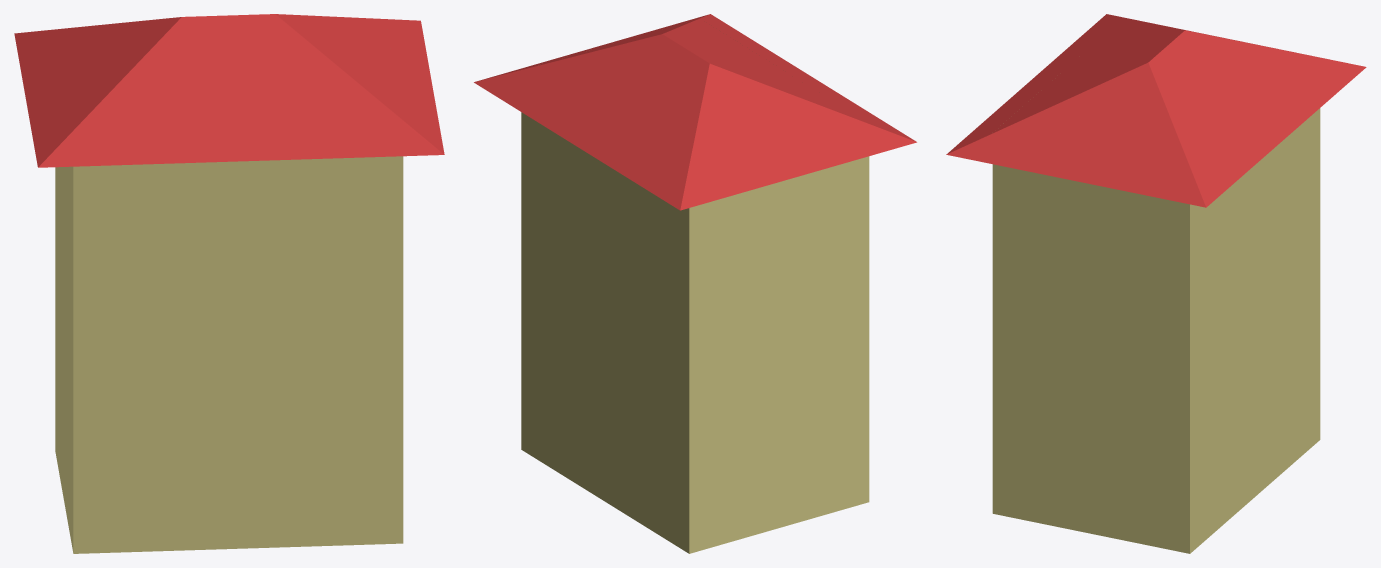
3 views of the same model, side by side, from view 1: azimuth 30°, elevation 25°; view 2: azimuth 150°, elevation 25°; view 3: azimuth 270°, elevation 25° (orthographic). The views are drawn at different scales.
Size of the model in its own units: 6.58 by 6.04 by 6.85.
